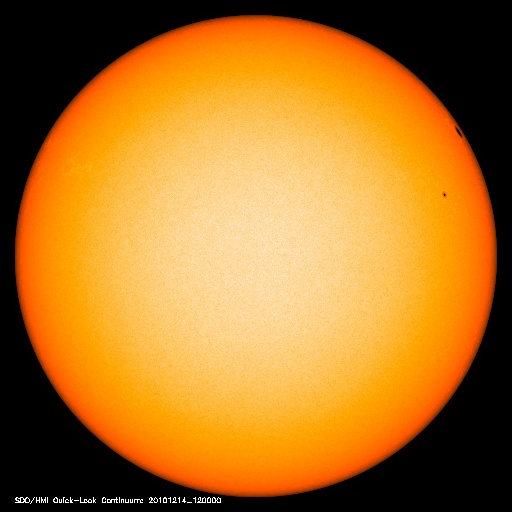sunspot: (427, 181, 456, 207), (447, 113, 469, 145)
